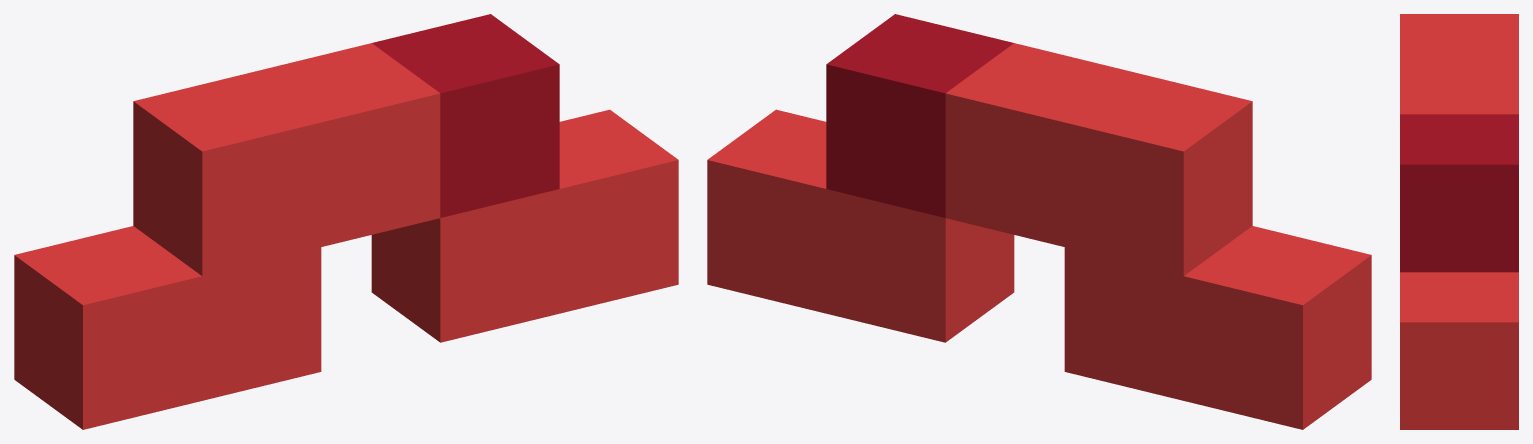
File: LawnModel-5.obj
3 views of the same model, side by side, from view 1: azimuth 30°, elevation 25°; view 2: azimuth 150°, elevation 25°; view 3: azimuth 270°, elevation 25° (orthographic). The views are drawn at different scales.
Parts seen in each view (by area): view 1: LawnModel-5; view 2: LawnModel-5; view 3: LawnModel-5.
Boxes of the visible parts, box(x1,y1,x2,y2) form: LawnModel-5: box(14, 14, 678, 429); LawnModel-5: box(707, 14, 1371, 429); LawnModel-5: box(1400, 14, 1518, 429).
Size of the model in its own units: 5 by 2 by 1.
Materials: 1 (1 with a texture image).
